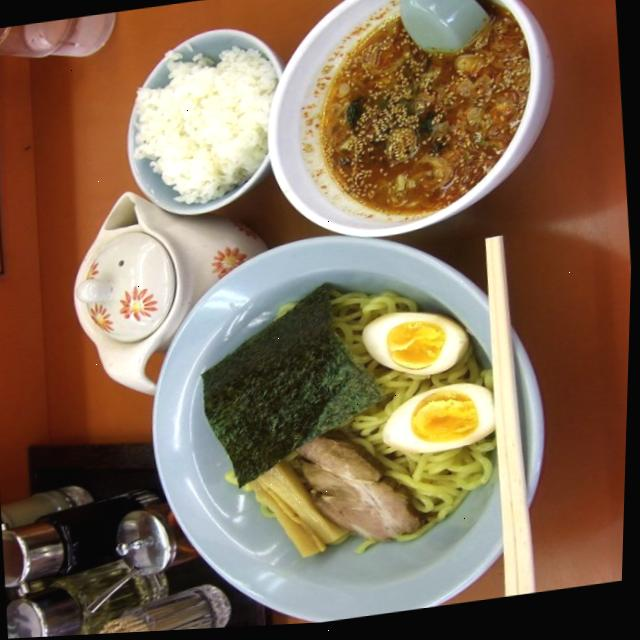面条主食: (205, 0, 584, 568)
